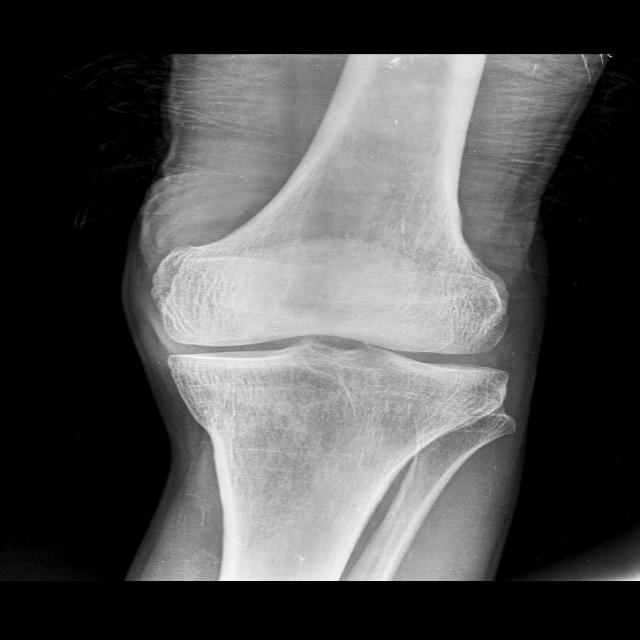normal: (146, 244, 514, 410)
